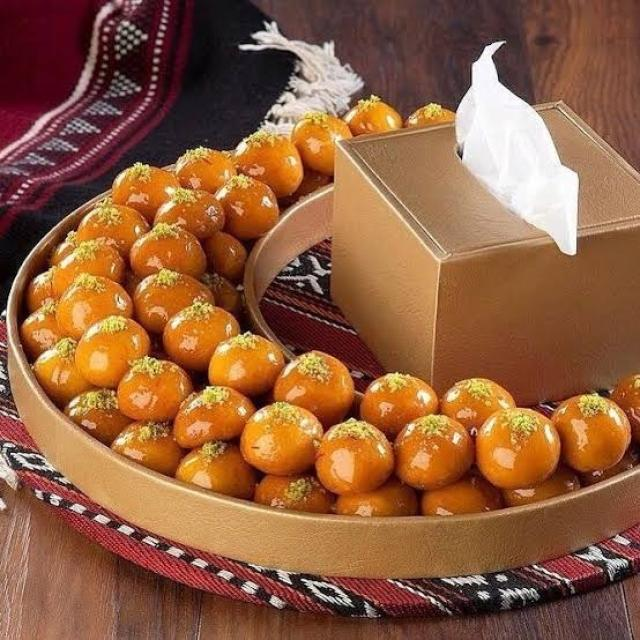Luqaimat: (61, 184, 283, 522)
